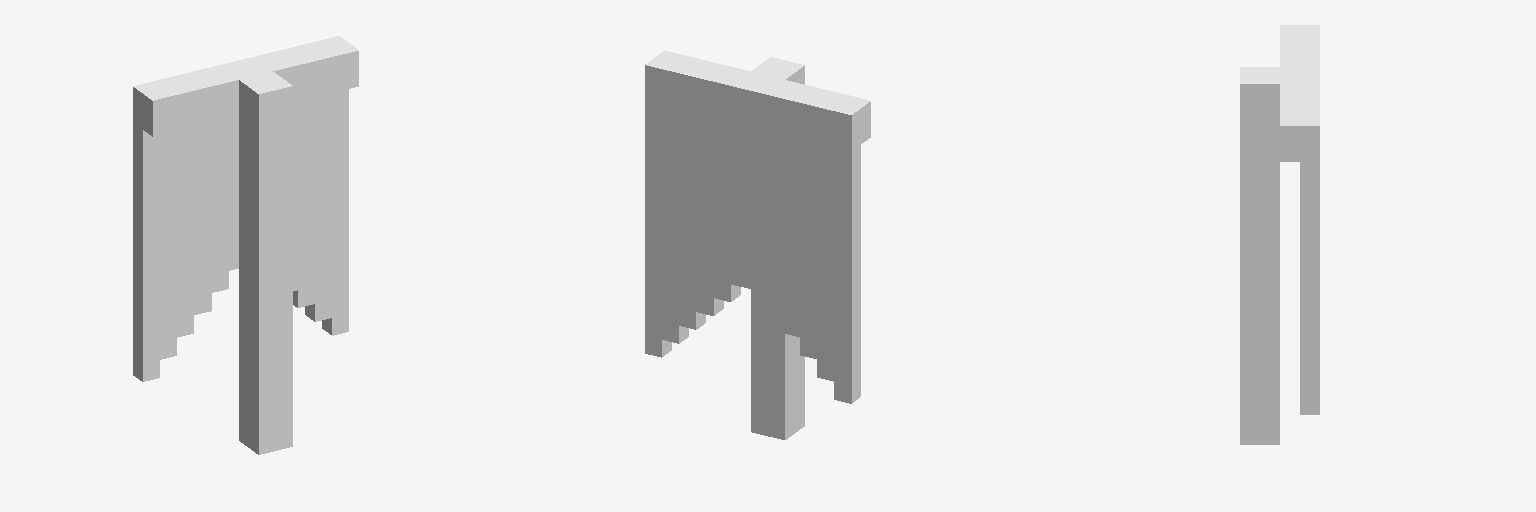
File: arrowsnipetoken.blue.obj
3 views of the same model, side by side, from view 1: azimuth 30°, elevation 25°; view 2: azimuth 150°, elevation 25°; view 3: azimuth 270°, elevation 25° (orthographic).
Parts seen in each view (by area): view 1: object 1; view 2: object 1; view 3: object 1.
Boxes of the visible parts, x1=… form: object 1: x1=133, y1=36, x2=358, y2=454; object 1: x1=645, y1=50, x2=870, y2=439; object 1: x1=1240, y1=25, x2=1319, y2=444.
Bounding box in the file's own units: 1.2 × 2 × 0.4.